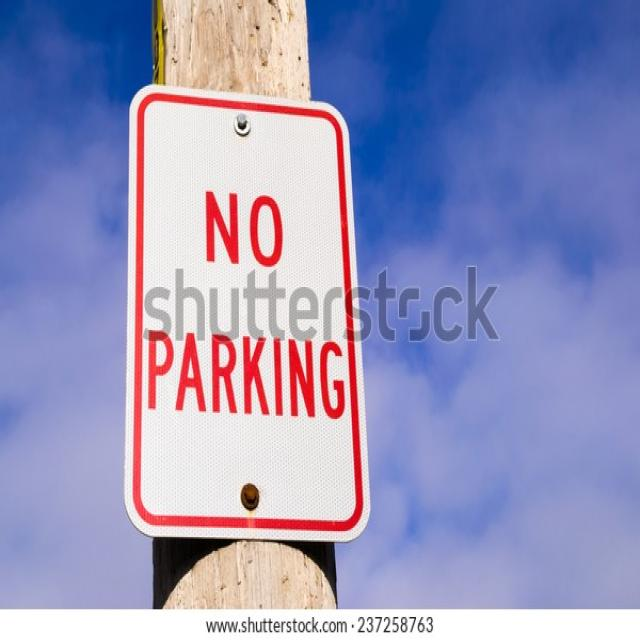Traffic sign: (131, 169, 357, 443)
